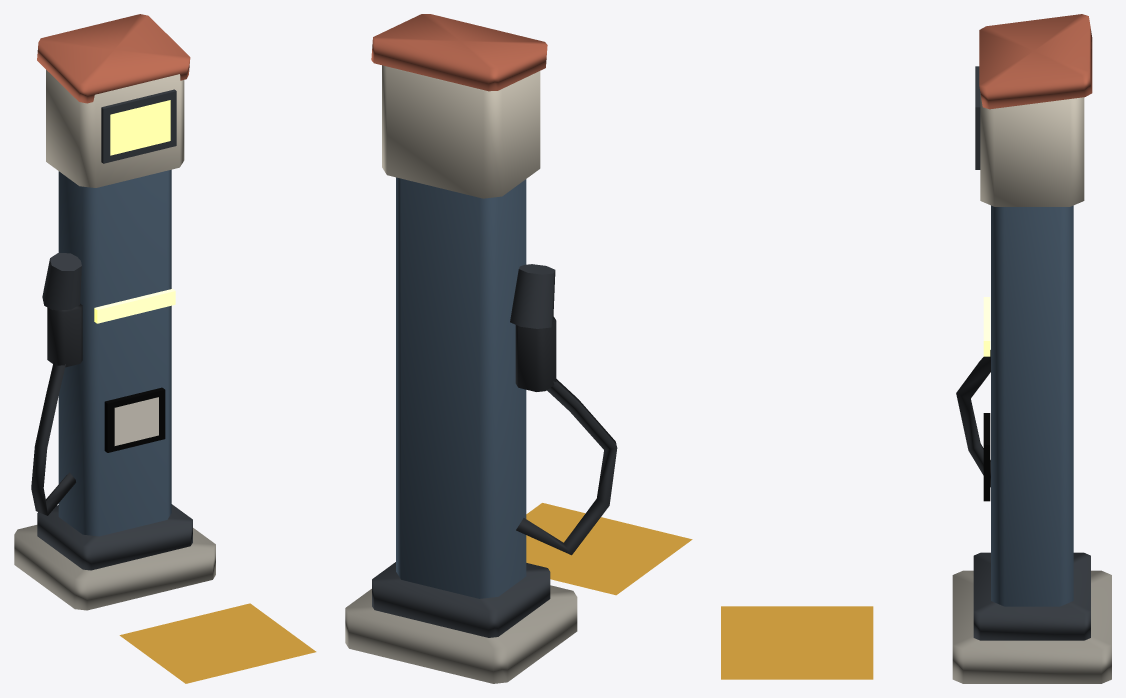
Rendered from ev-charging-point.glb.
3 renders of one model, left to right at view 1: azimuth 30°, elevation 25°; view 2: azimuth 150°, elevation 25°; view 3: azimuth 270°, elevation 25°, orthographic. The views are drawn at different scales.
Parts seen in each view (by area): view 1: Merged_prop-body, Merged_city-metal-dark, Merged_prop-accent, Merged_city-warning-surface, Merged_city-curb, Merged_prop-body-light, Merged_city-rubber, Merged_city-lit-glass-surface, Merged_city-poster-surface, Merged_prop-body-deep-surface, Merged_city-lamp-lens-surface; view 2: Merged_prop-body, Merged_prop-body-light, Merged_city-curb, Merged_city-metal-dark, Merged_prop-accent, Merged_city-warning-surface, Merged_city-rubber; view 3: Merged_prop-body, Merged_city-warning-surface, Merged_prop-body-light, Merged_city-curb, Merged_prop-accent, Merged_city-metal-dark, Merged_city-rubber, Merged_prop-body-deep-surface.
Part boxes in pixels (box(x1,y1,x2,y2)): Merged_prop-body: box(58, 169, 171, 536); Merged_city-metal-dark: box(37, 89, 192, 570); Merged_prop-accent: box(37, 14, 190, 103); Merged_city-warning-surface: box(119, 603, 316, 683); Merged_city-curb: box(14, 525, 215, 610); Merged_prop-body-light: box(46, 70, 184, 187); Merged_city-rubber: box(31, 303, 82, 515); Merged_city-lit-glass-surface: box(110, 100, 170, 155); Merged_city-poster-surface: box(114, 397, 158, 445); Merged_prop-body-deep-surface: box(104, 387, 165, 452); Merged_city-lamp-lens-surface: box(94, 288, 175, 323); Merged_prop-body: box(396, 177, 526, 598); Merged_prop-body-light: box(382, 65, 540, 198); Merged_city-curb: box(345, 585, 577, 683); Merged_city-metal-dark: box(372, 264, 555, 637); Merged_prop-accent: box(371, 14, 547, 91); Merged_city-warning-surface: box(526, 503, 692, 595); Merged_city-rubber: box(515, 317, 617, 555); Merged_prop-body: box(991, 205, 1073, 606); Merged_city-warning-surface: box(721, 606, 873, 679); Merged_prop-body-light: box(980, 93, 1084, 206); Merged_city-curb: box(952, 570, 1111, 683); Merged_prop-accent: box(979, 14, 1092, 109); Merged_city-metal-dark: box(973, 66, 1090, 640); Merged_city-rubber: box(956, 350, 990, 487); Merged_prop-body-deep-surface: box(983, 413, 990, 501).
Size of what is drawn, in the model's own units: 0.6826 by 1.92 by 1.13.
